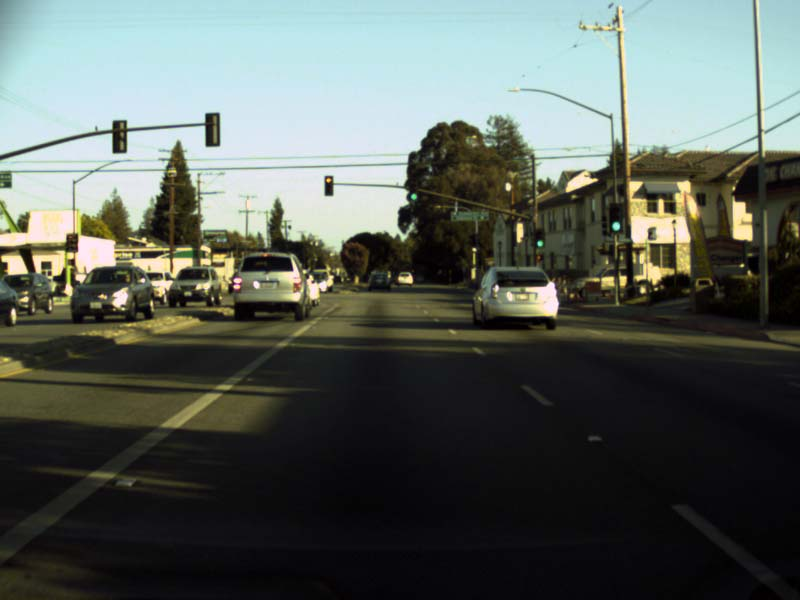Green: (608, 202, 623, 233), (534, 227, 544, 248), (408, 181, 419, 200)
Red: (323, 175, 333, 196), (66, 234, 72, 251)
